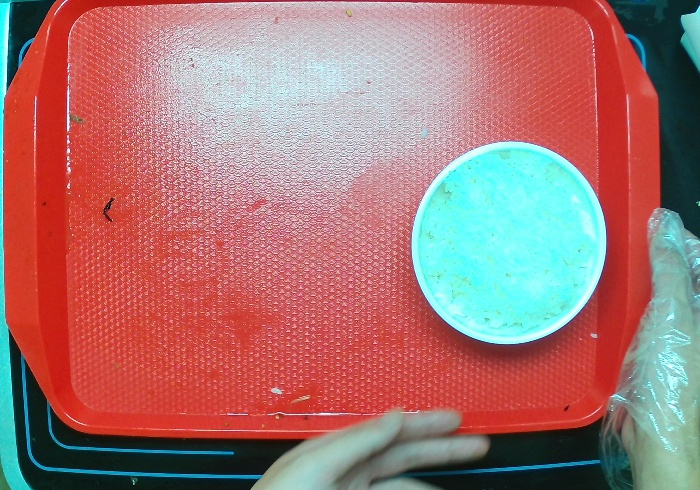YKMZ-Fan_Wan: (403, 134, 621, 353)
